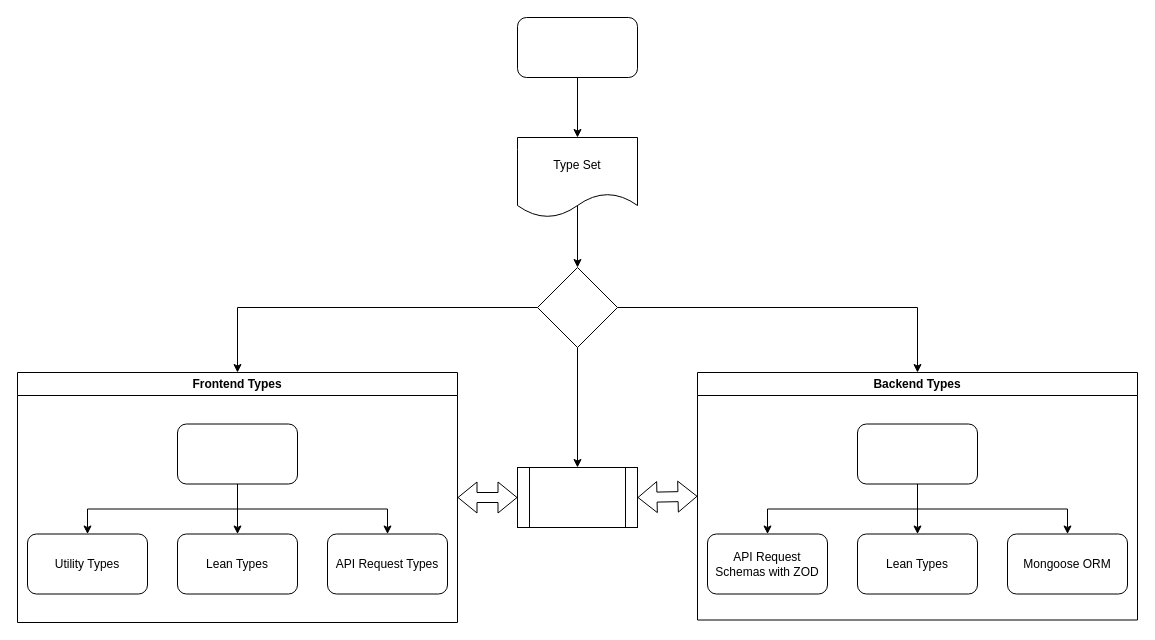
Image size: 1155x640. Some labels were removed from this diagram. Here are the shapes that lost their labels. From the top down, the centre of each, then its label:
the point at 577,47: Type Repository
the point at 577,307: Generator
the point at 237,453: Frontend
the point at 917,453: Backend
the point at 577,497: OpenAPI Contract
